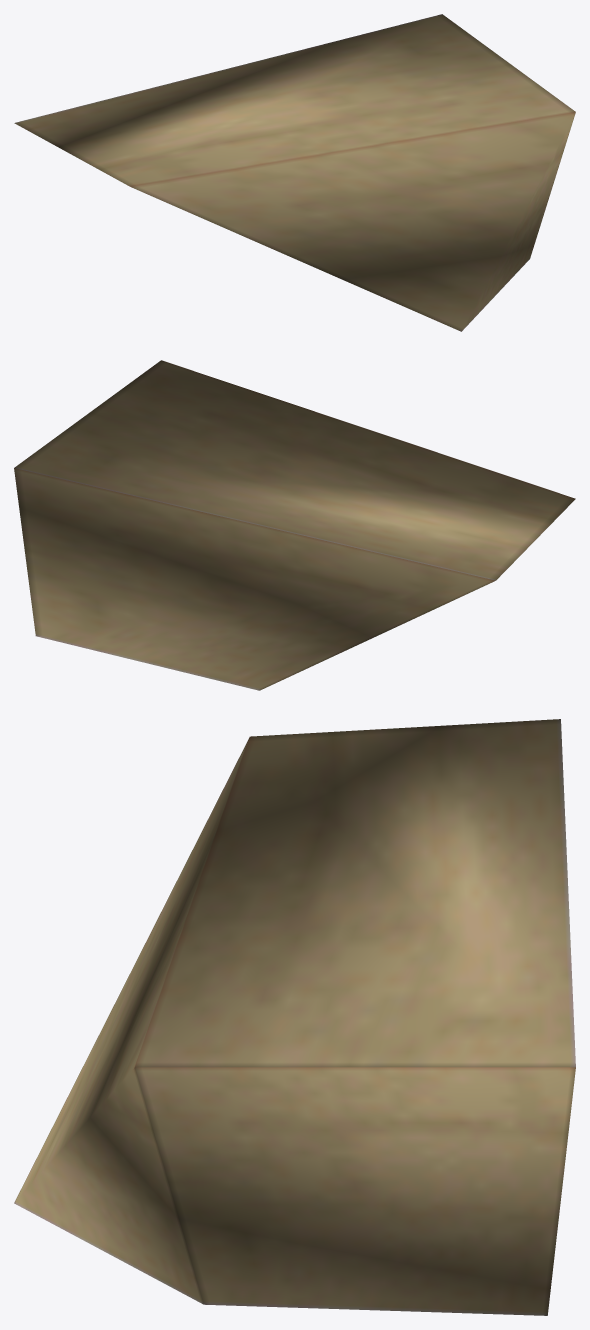
3 views of the same model, one above another, from view 1: azimuth 30°, elevation 25°; view 2: azimuth 150°, elevation 25°; view 3: azimuth 270°, elevation 25° (orthographic). The views are drawn at different scales.
Visible parts, largest first — view 1: T1L5M008_3; view 2: T1L5M008_3; view 3: T1L5M008_3.
Boxes of the visible parts, x1,y1,x2,y2 form: T1L5M008_3: [14, 14, 575, 331]; T1L5M008_3: [14, 360, 575, 690]; T1L5M008_3: [14, 719, 575, 1315].
Bounding box in the file's own units: 1.77 × 0.6094 × 1.21.
